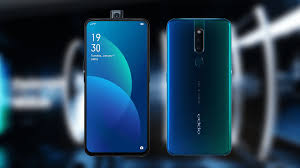oppo: (85, 17, 152, 160), (167, 15, 234, 158)
